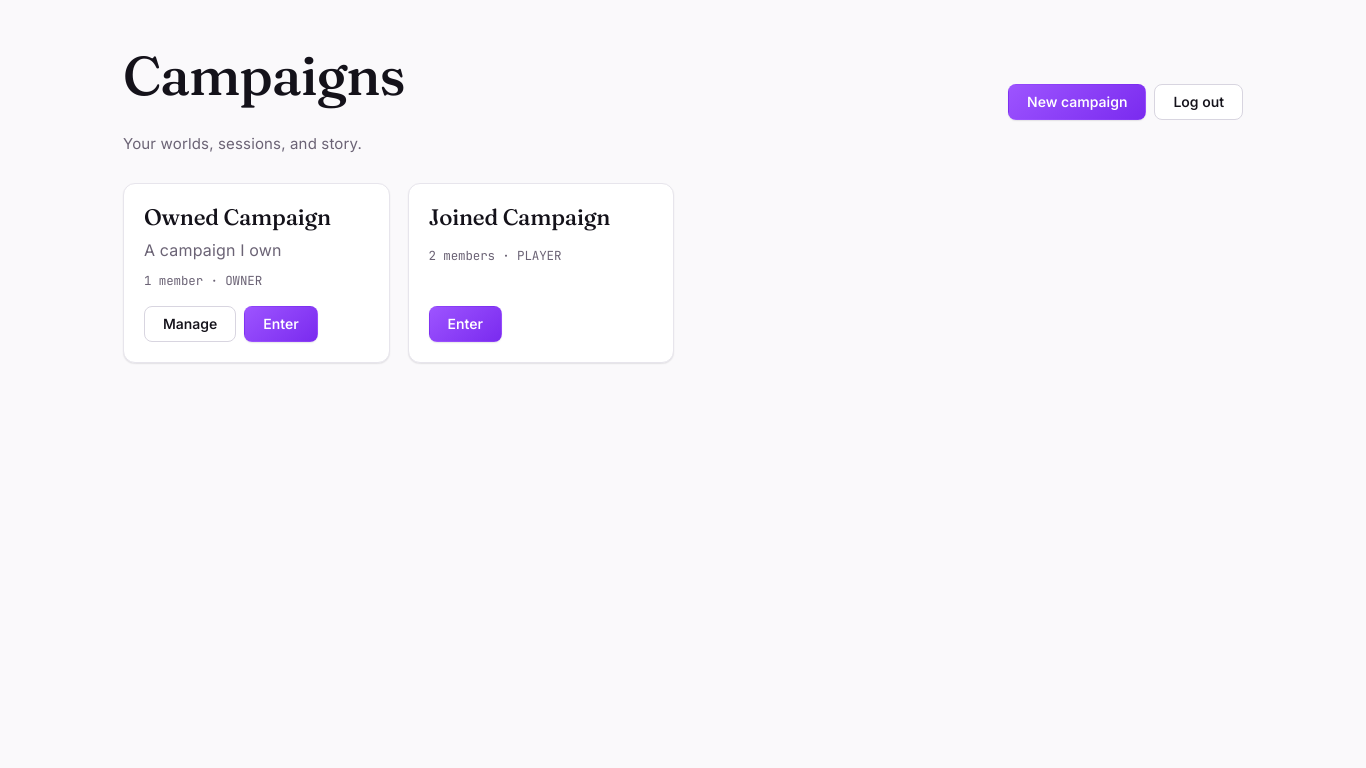
it: DashboardPage › opens the manage-campaign modal prefilled with the campaign's data
Click the button "Manage" at (190, 324), box [144,306,236,342]
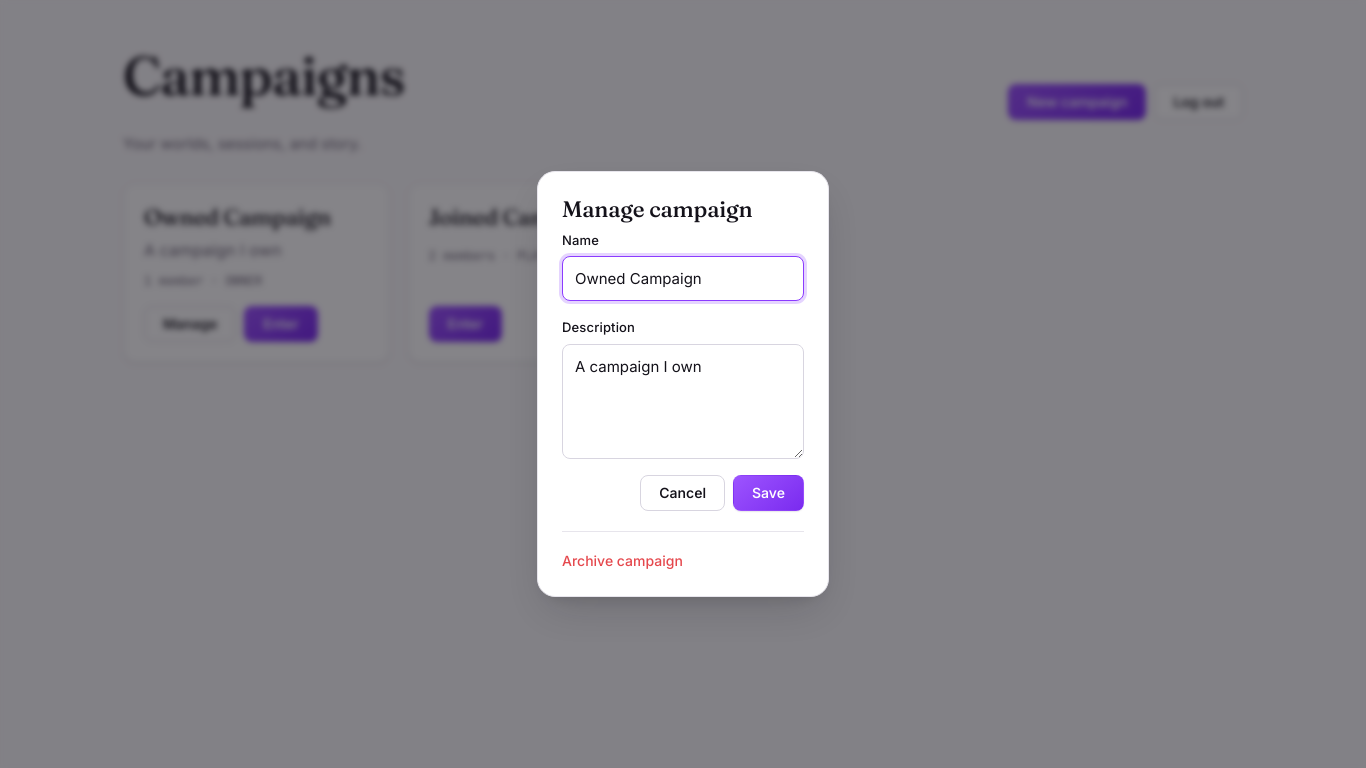
expect the heading "Manage campaign" is shown: met, box [562,195,752,223]
expect the field labelled "Name" holds "Owned Campaign": met, box [562,256,804,301]
